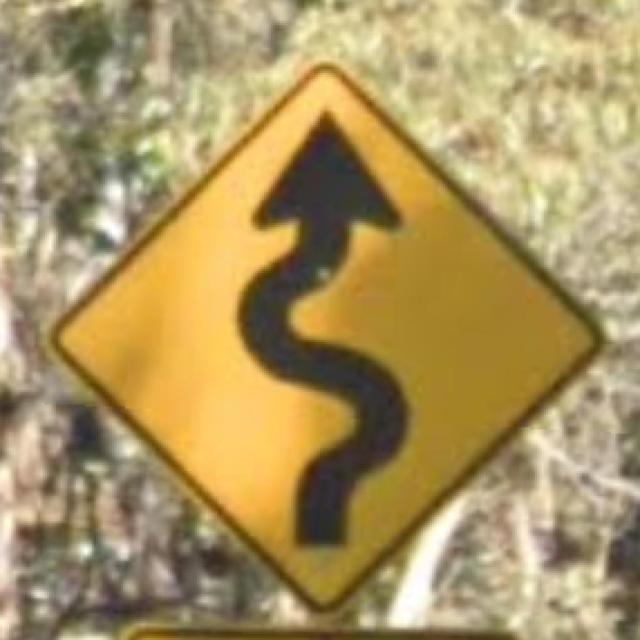Banyak Tikungan Pertama Kanan: (36, 50, 613, 615)
